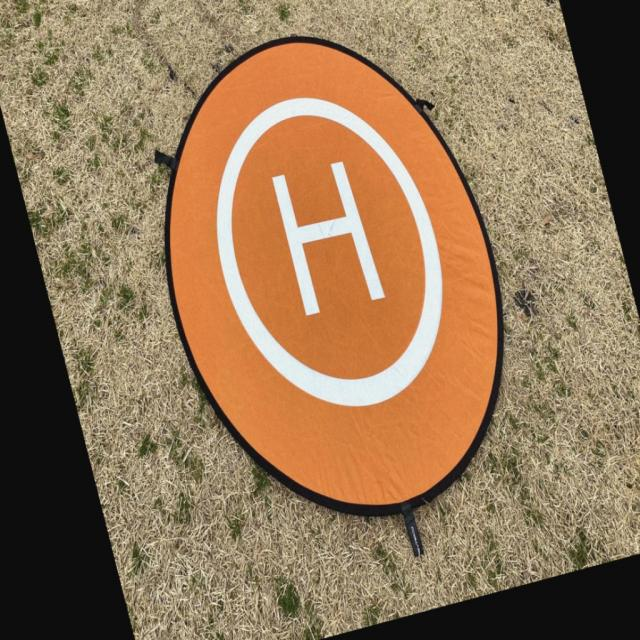helipad: (211, 91, 450, 412)
